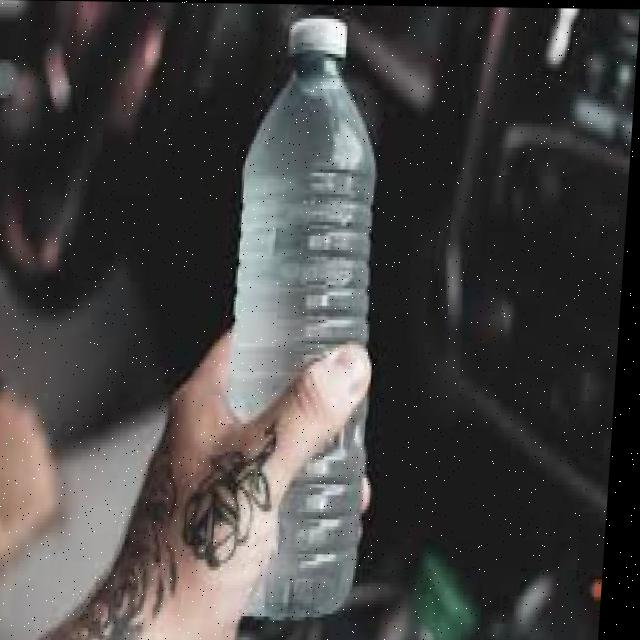bottle: (211, 9, 437, 640)
